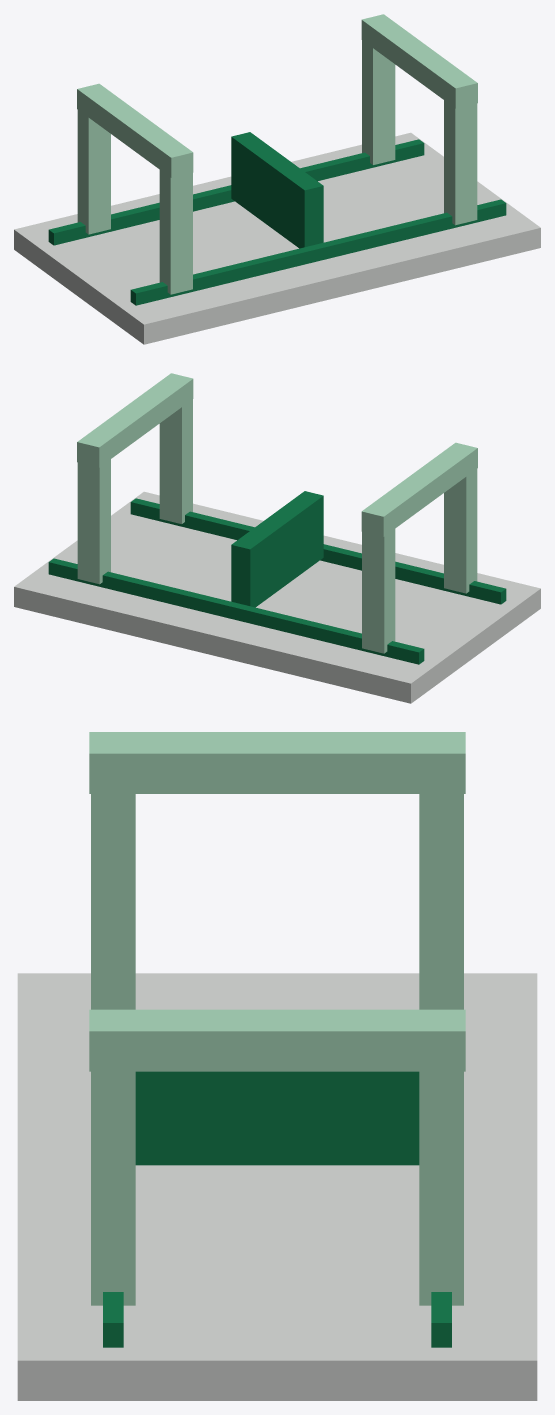
File: ezymap-range-gate.obj
3 views of the same model, one above another, from view 1: azimuth 30°, elevation 25°; view 2: azimuth 150°, elevation 25°; view 3: azimuth 270°, elevation 25° (orthographic). The views are drawn at different scales.
Parts seen in each view (by area): view 1: base, gate_0, gate_1, scan_cursor, range_edge_1, range_edge_0; view 2: base, gate_0, gate_1, scan_cursor, range_edge_0, range_edge_1; view 3: base, gate_1, gate_0, scan_cursor, range_edge_0, range_edge_1.
Boxes of the visible parts, left/top/right/bottom form: base: left=14, top=132, right=540, bottom=344; gate_0: left=77, top=83, right=193, bottom=294; gate_1: left=361, top=14, right=477, bottom=225; scan_cursor: left=231, top=132, right=323, bottom=248; range_edge_1: left=130, top=199, right=506, bottom=305; range_edge_0: left=48, top=139, right=424, bottom=245; base: left=14, top=491, right=540, bottom=703; gate_0: left=361, top=442, right=477, bottom=653; gate_1: left=77, top=373, right=193, bottom=584; scan_cursor: left=231, top=491, right=323, bottom=607; range_edge_0: left=48, top=558, right=424, bottom=664; range_edge_1: left=130, top=498, right=506, bottom=604; base: left=17, top=973, right=537, bottom=1400; gate_1: left=89, top=1009, right=465, bottom=1305; gate_0: left=89, top=732, right=465, bottom=1009; scan_cursor: left=135, top=1071, right=419, bottom=1165; range_edge_0: left=431, top=1292, right=451, bottom=1347; range_edge_1: left=103, top=1292, right=123, bottom=1347.
Bounding box in the file's own units: 1.34 × 0.525 × 0.76.
